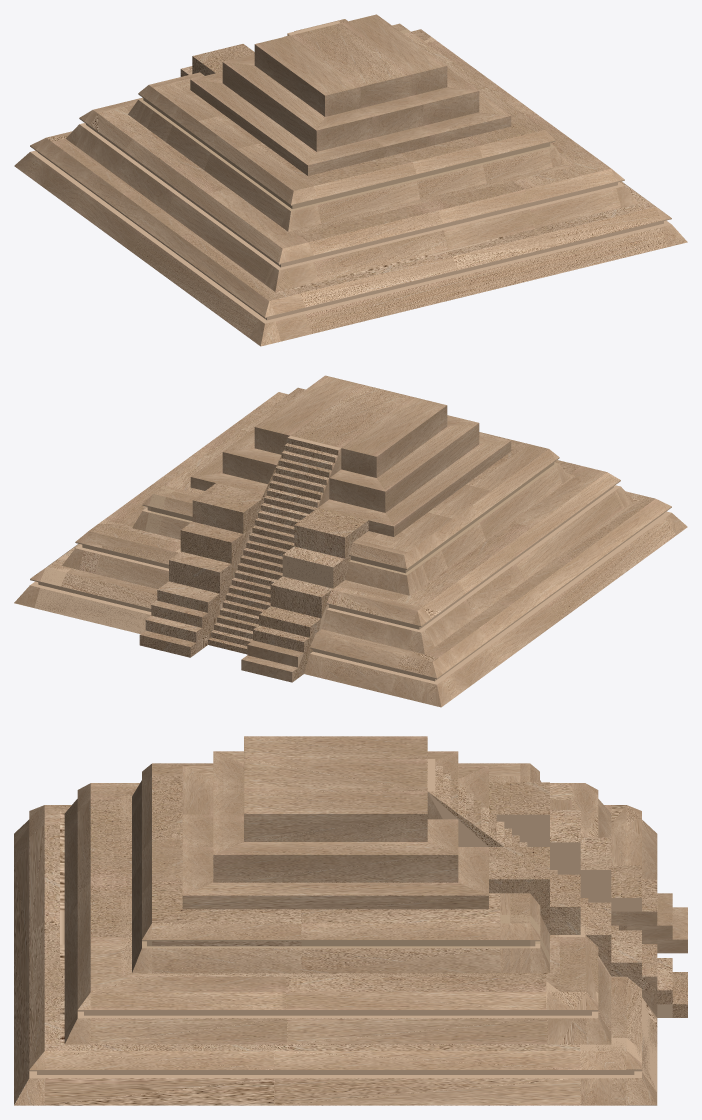
File: mundoPerdido.gltf
The picture shows the model from 3 angles, top to bottom: view 1: azimuth 30°, elevation 25°; view 2: azimuth 150°, elevation 25°; view 3: azimuth 270°, elevation 25°; orthographic projection. The views are drawn at different scales.
Visible parts, largest first — view 1: Tier1, Tier2, Pyramid, Tier3; view 2: Pyramid, Tier1, Tier2, Tier3, Stairs, Tier1 Corner; view 3: Pyramid, Tier1, Tier2, Tier3, Stairs, Tier1 Corner, Tier2Corner, Tier3 Corner.
Part boxes in pixels (x1,y1,x2,y2): Tier1: (14, 131, 687, 346); Tier2: (66, 29, 638, 291); Pyramid: (62, 14, 618, 293); Tier3: (128, 23, 565, 231); Pyramid: (139, 375, 639, 682); Tier1: (34, 491, 687, 707); Tier2: (79, 392, 633, 654); Tier3: (145, 387, 569, 595); Stairs: (208, 436, 340, 654); Tier1 Corner: (14, 568, 45, 607); Pyramid: (60, 736, 687, 1044); Tier1: (14, 805, 657, 1105); Tier2: (64, 783, 611, 1044); Tier3: (132, 763, 549, 973); Stairs: (427, 759, 618, 930); Tier1 Corner: (626, 1051, 657, 1105); Tier2Corner: (585, 994, 611, 1044); Tier3 Corner: (530, 924, 549, 973).
Bounding box in the file's own units: 42.02 × 14.01 × 44.01.
Materials: 5 (5 with a texture image).
